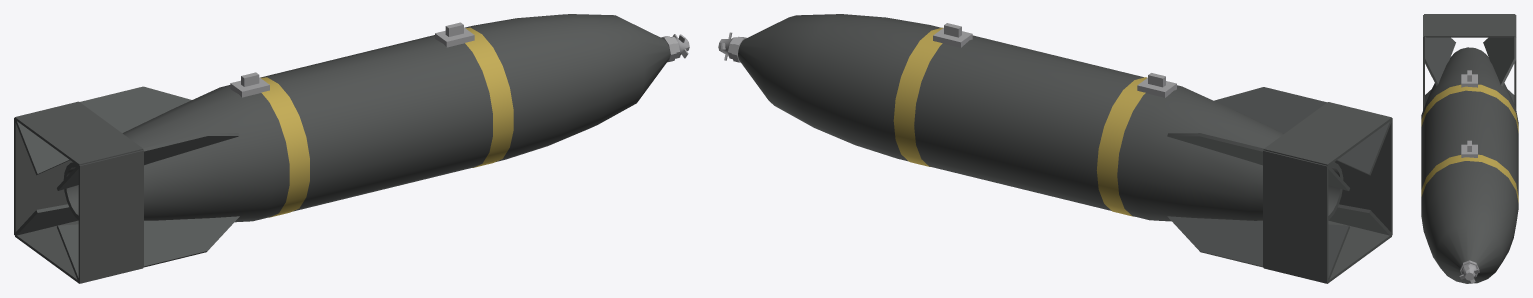
Rendered from hebomb_1.glb.
3 views of the same model, side by side, from view 1: azimuth 30°, elevation 25°; view 2: azimuth 150°, elevation 25°; view 3: azimuth 270°, elevation 25° (orthographic). The views are drawn at different scales.
Parts seen in each view (by area): view 1: hebomb_1; view 2: hebomb_1; view 3: hebomb_1.
Boxes of the visible parts, box(x1,y1,x2,y2) form: hebomb_1: box(14, 14, 689, 283); hebomb_1: box(718, 14, 1392, 283); hebomb_1: box(1421, 14, 1518, 283).
Size of the model in its own units: 0.8 by 0.1656 by 0.1498.
